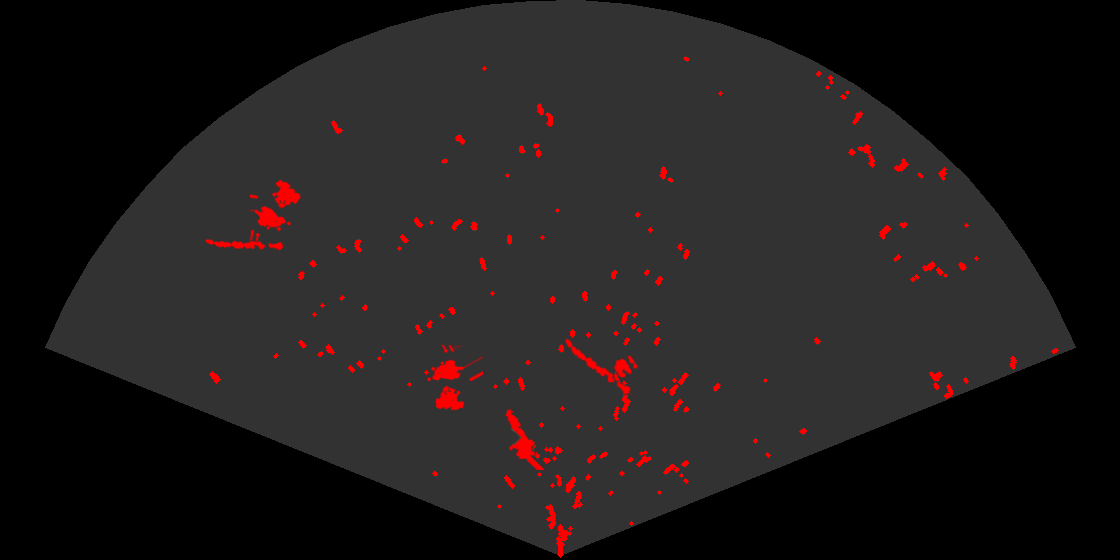ball: (612, 354, 640, 380)
cage: (425, 345, 483, 412), (250, 178, 302, 244)
chain: (563, 337, 636, 400), (204, 238, 284, 252)
frogman: (504, 408, 546, 470)
